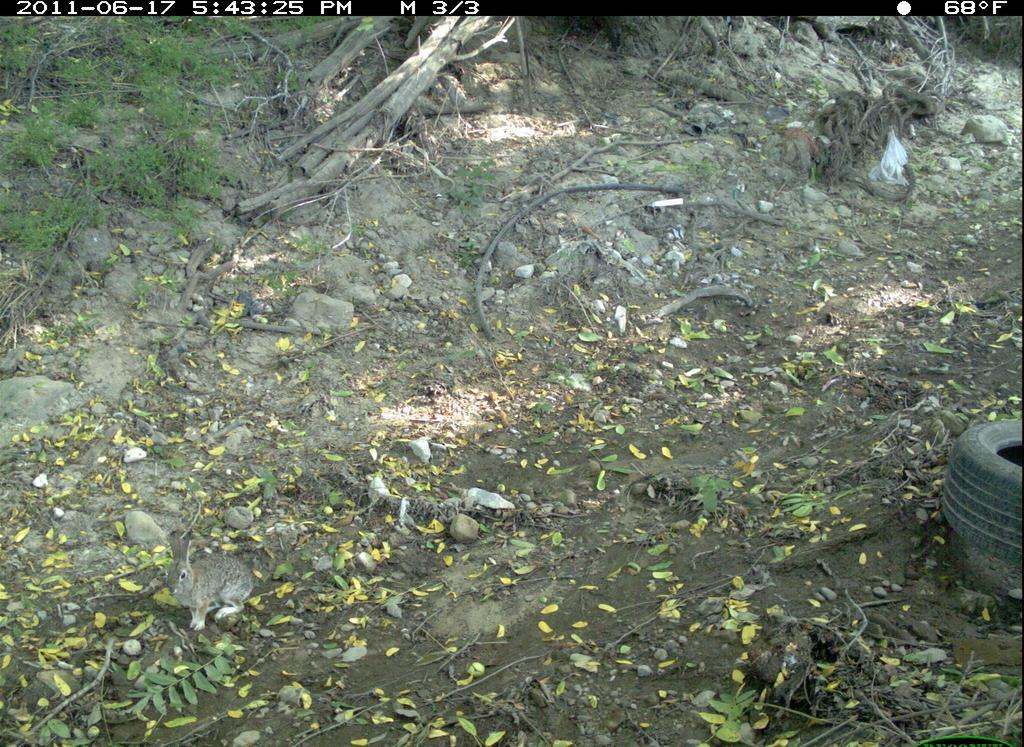rabbit: (150, 519, 276, 644)
